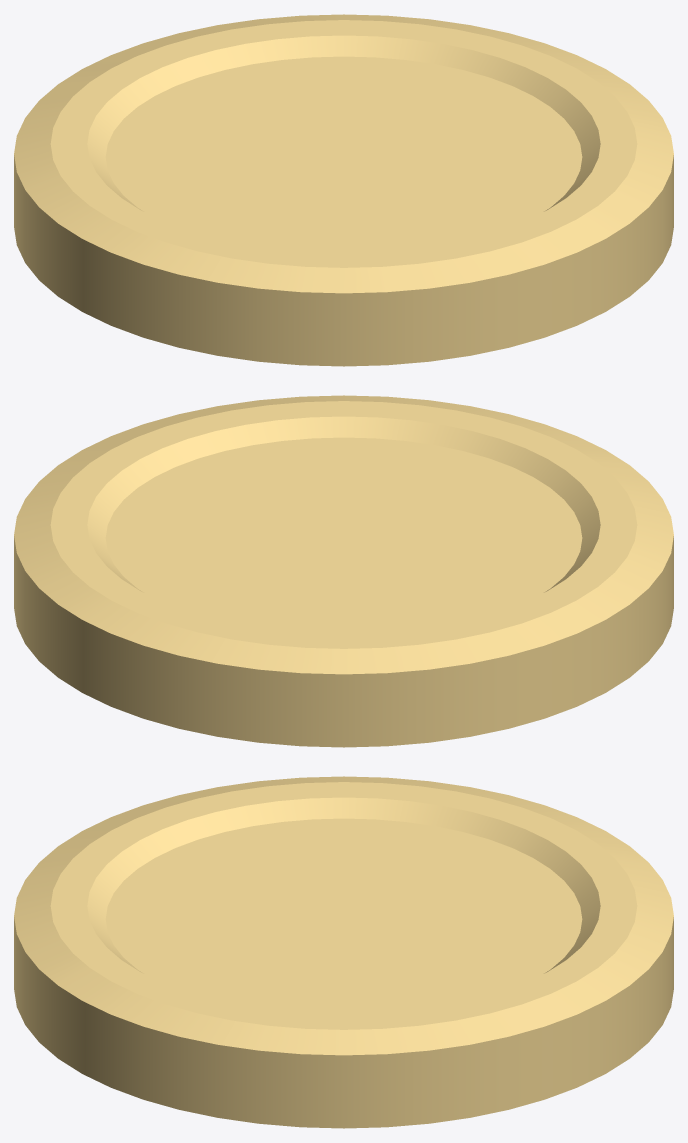
Rendered from desktop.glb.
3 views of the same model, one above another, from view 1: azimuth 30°, elevation 25°; view 2: azimuth 150°, elevation 25°; view 3: azimuth 270°, elevation 25° (orthographic).
Bounding box in the file's own units: 0.18 × 0.028 × 0.18.
Materials: 1 (1 with a texture image).
